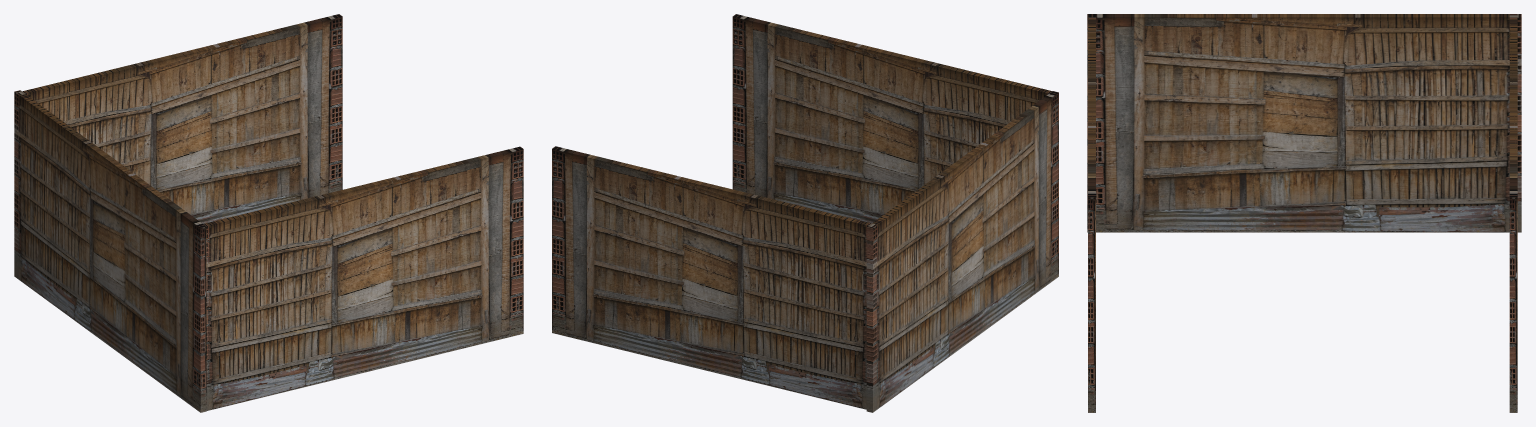
Rendered from casa_izquierda_18B.fbx.
3 renders of one model, left to right at view 1: azimuth 30°, elevation 25°; view 2: azimuth 150°, elevation 25°; view 3: azimuth 270°, elevation 25°, orthographic. The views are drawn at different scales.
Parts seen in each view (by area): view 1: casa_izquierda_18B.002, casa_izquierda_18B.003, casa_izquierda_18B.001; view 2: casa_izquierda_18B.003, casa_izquierda_18B.002, casa_izquierda_18B.001; view 3: casa_izquierda_18B.001, casa_izquierda_18B.003, casa_izquierda_18B.002.
Boxes of the visible parts, box(x1,y1,x2,y2) form: casa_izquierda_18B.002: box(203, 146, 523, 410); casa_izquierda_18B.003: box(16, 14, 342, 223); casa_izquierda_18B.001: box(14, 90, 206, 412); casa_izquierda_18B.003: box(552, 146, 877, 409); casa_izquierda_18B.002: box(732, 14, 1052, 223); casa_izquierda_18B.001: box(866, 91, 1058, 412); casa_izquierda_18B.001: box(1087, 14, 1521, 232); casa_izquierda_18B.003: box(1509, 14, 1517, 412); casa_izquierda_18B.002: box(1088, 17, 1095, 412).
Bounding box in the file's own units: 843 × 461 × 843.
